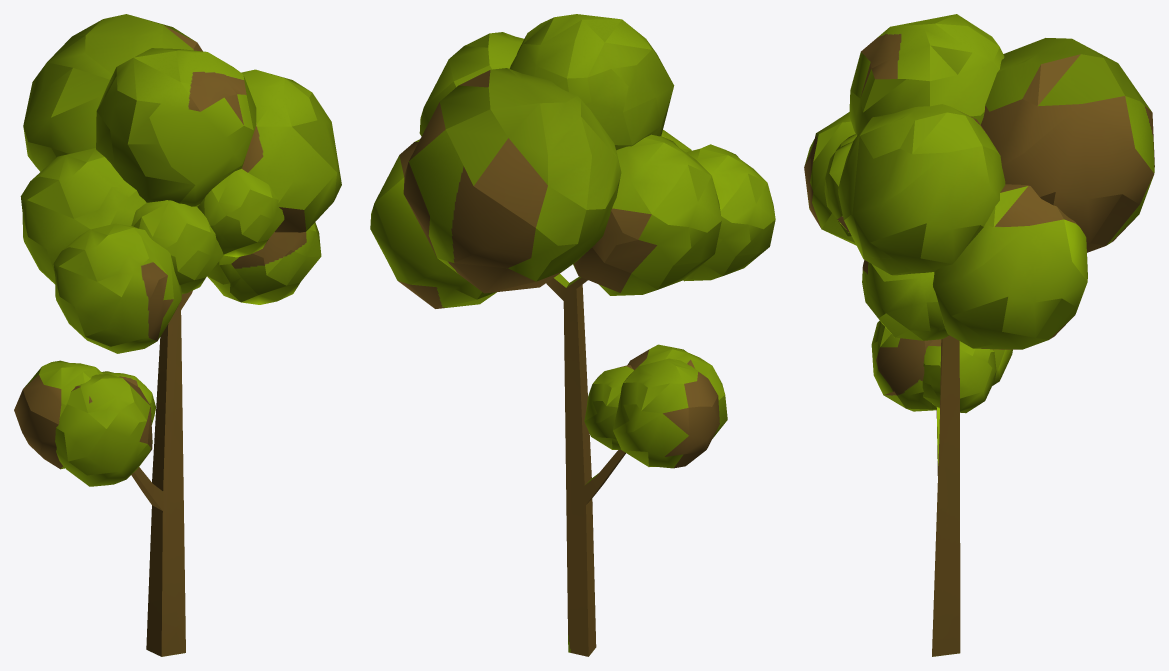
Rendered from tree1.fbx.
3 views of the same model, side by side, from view 1: azimuth 30°, elevation 25°; view 2: azimuth 150°, elevation 25°; view 3: azimuth 270°, elevation 25° (orthographic). The views are drawn at different scales.
Visible parts, largest first — view 1: pCube2; view 2: pCube2; view 3: pCube2.
Part boxes in pixels (x1,y1,x2,y2): pCube2: (14,14,341,656); pCube2: (370,14,775,656); pCube2: (804,14,1154,656).
Bounding box in the file's own units: 4.08 × 7.71 × 3.9.
